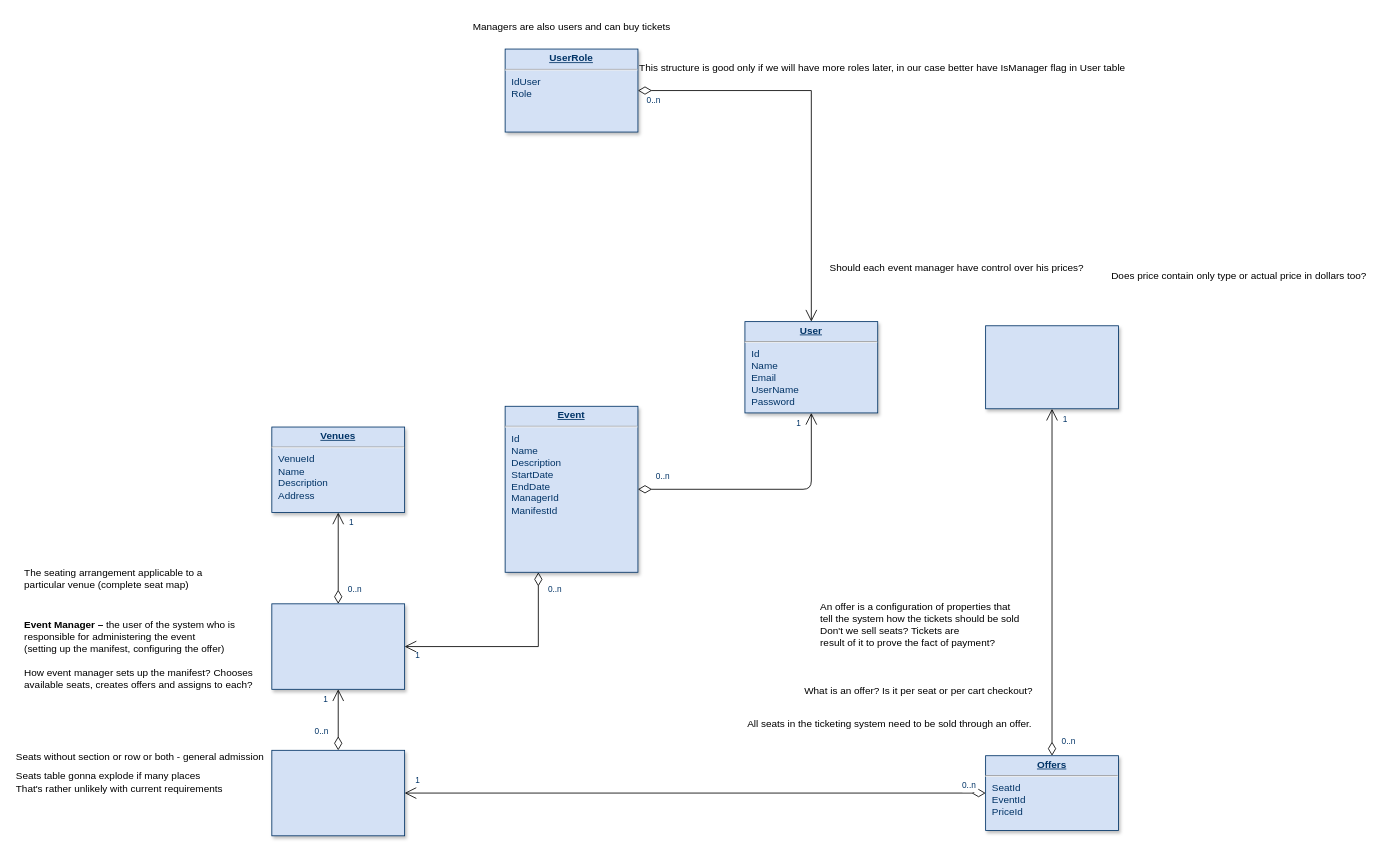
The diagram is 1389 pixels wide and 856 high, and some of its shapes have lost their labels. Each missing label, with the centre of its shape:
"Manifests ManifestId VenueId" belongs at [339,647].
"Prices PriceId Name" belongs at [1052,368].
"Seats SeatId ManifestId Section Row Seat" belongs at [339,794].
